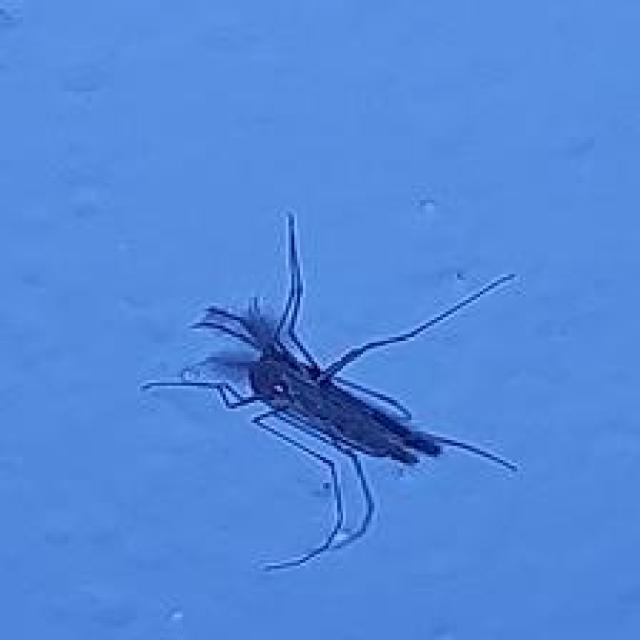Culex: (138, 209, 522, 574)
